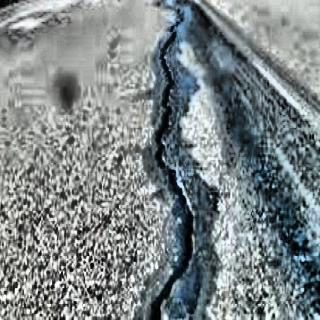crack: (148, 0, 198, 320)
